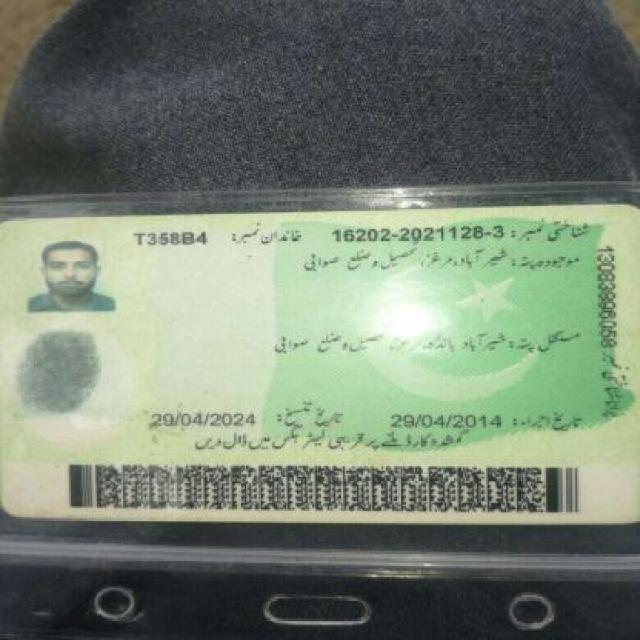Back: (3, 207, 632, 556)
